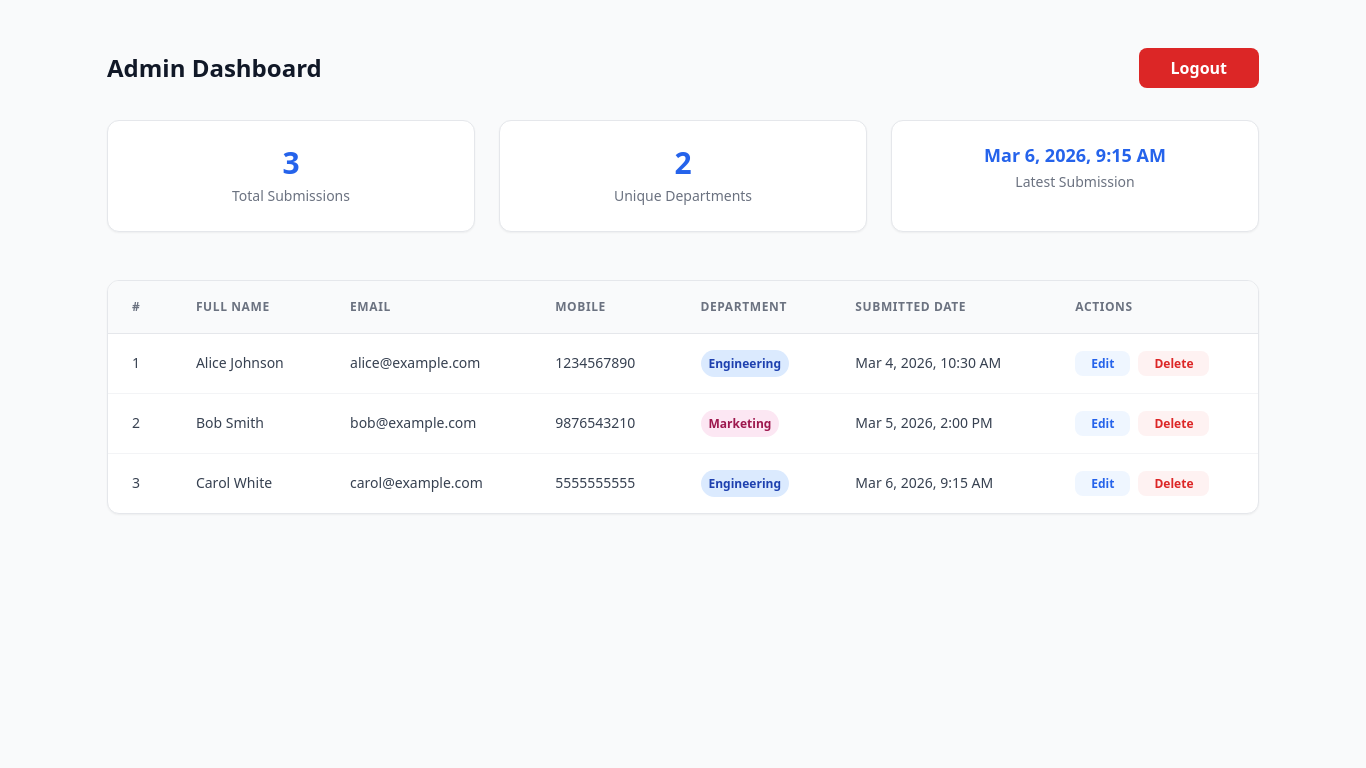
Test: AdminDashboard › edit functionality › closes edit modal when Cancel button is clicked
What coordinates should you click on to do the following:
click the button named "Edit Alice Johnson"
I would click on:
 (1103, 363)
Its box is [1075,351,1130,376].
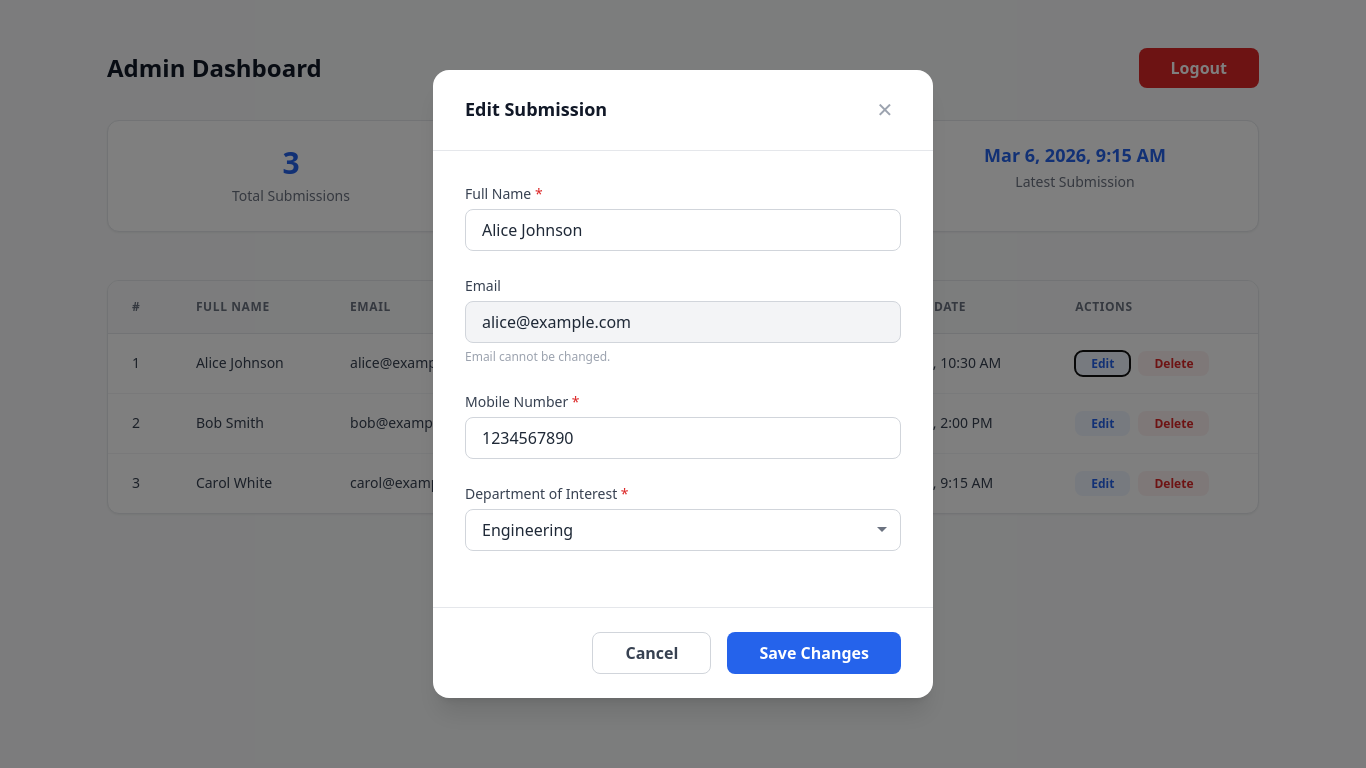
Result: the heading "Edit Submission" is shown at [465,95,607,124]
What coordinates should you click on to do the following:
click the button "Cancel"
I would click on:
 (652, 653)
Its box is [592,632,711,674].
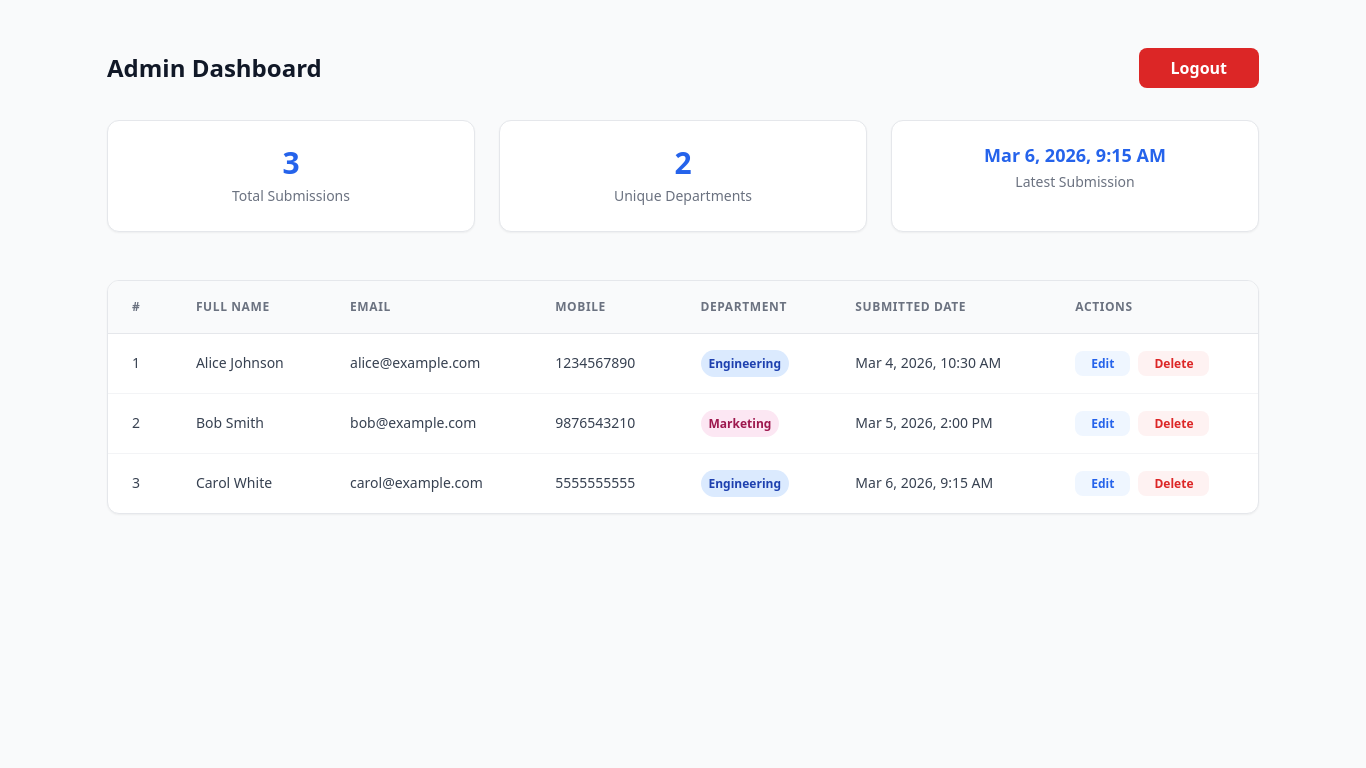
Result: the heading "Edit Submission" is gone
